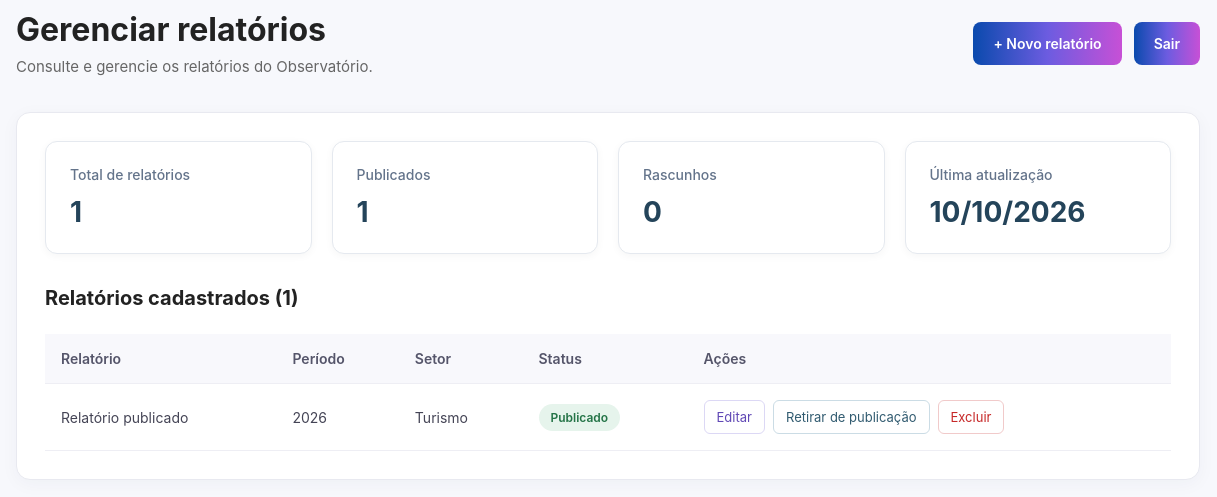
Test: AdminReports › exclui um relatório após confirmação
Check: the text "Relatório publicado" is shown, box [45,384,276,450]
Click the button "Excluir" at (971, 417), box [938,400,1004,434]
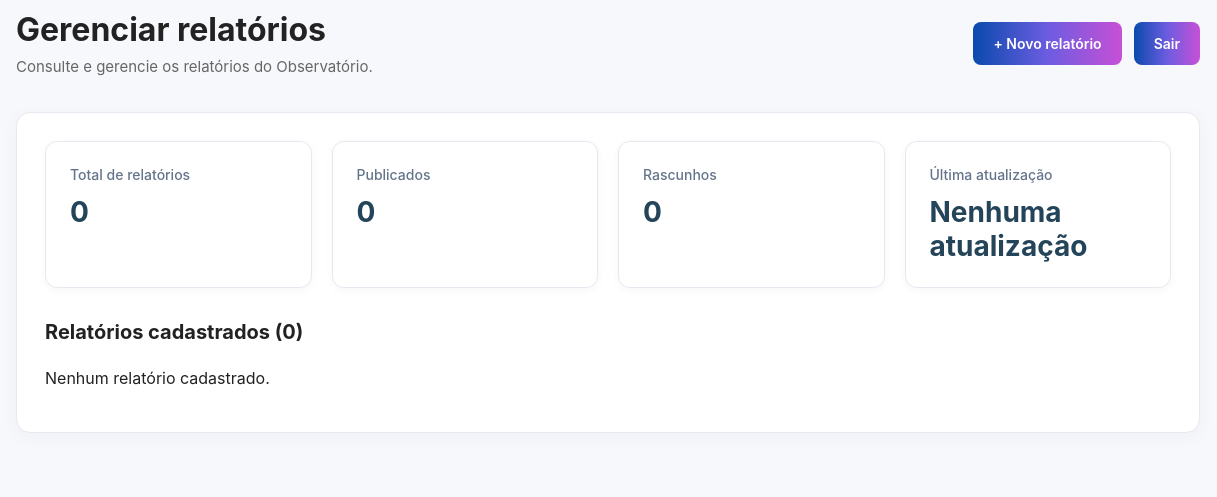
Check: the text "Relatório publicado" is gone
